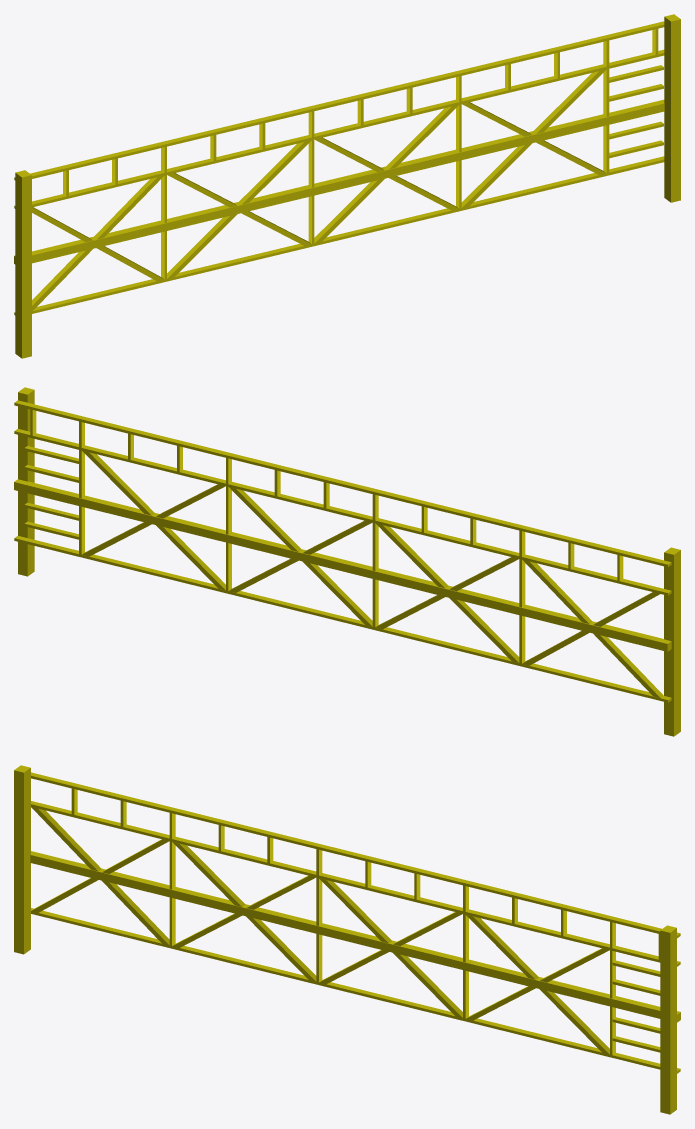
Rendered from Barriere.FBX.
The picture shows the model from 3 angles, top to bottom: view 1: azimuth 30°, elevation 25°; view 2: azimuth 150°, elevation 25°; view 3: azimuth 330°, elevation 25°; orthographic projection.
Visible parts, largest first — view 1: Barriere; view 2: Barriere; view 3: Barriere.
Boxes of the visible parts, bbox=[...] form: Barriere: bbox=[14, 14, 680, 358]; Barriere: bbox=[14, 387, 680, 736]; Barriere: bbox=[14, 765, 680, 1114].
Size of the model in its own units: 1972 by 520 by 68.69.
